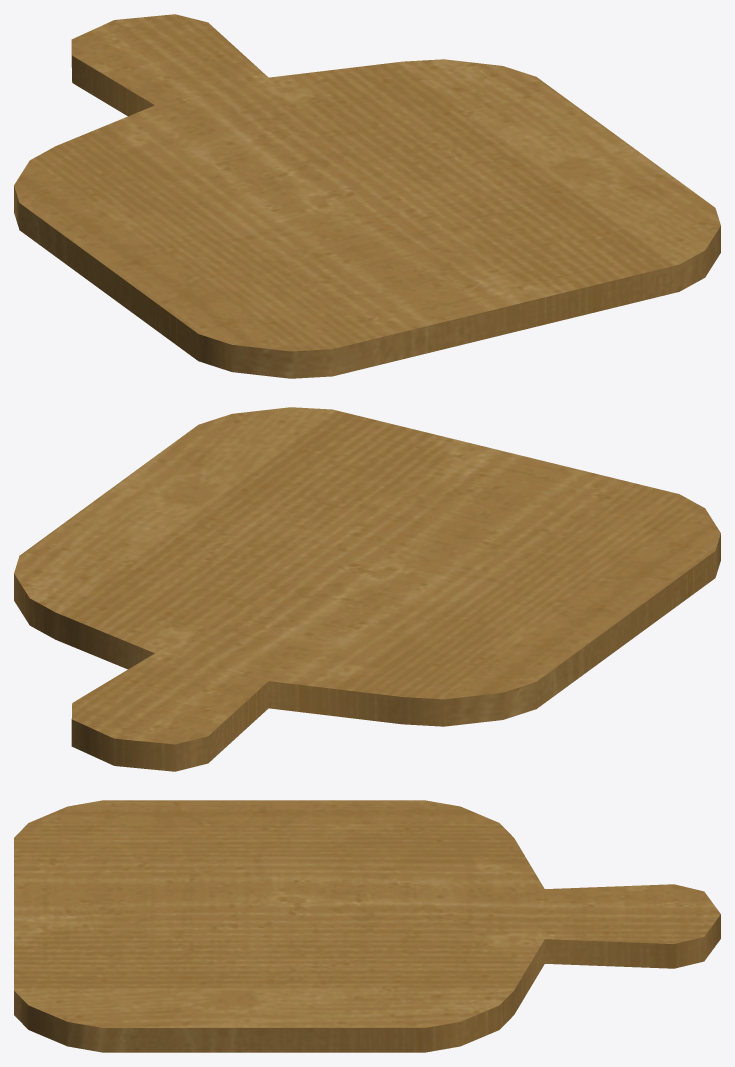
Rendered from PizzaBoard.fbx.
3 views of the same model, one above another, from view 1: azimuth 30°, elevation 25°; view 2: azimuth 150°, elevation 25°; view 3: azimuth 270°, elevation 25° (orthographic). The views are drawn at different scales.
Visible parts, largest first — view 1: PizzaBoard; view 2: PizzaBoard; view 3: PizzaBoard.
Boxes of the visible parts, x1=… form: PizzaBoard: x1=14, y1=14, x2=720, y2=378; PizzaBoard: x1=14, y1=407, x2=720, y2=771; PizzaBoard: x1=14, y1=800, x2=720, y2=1052.
Size of the model in its own units: 0.8669 by 0.0437 by 1.14.
Materials: 1 (1 with a texture image).
